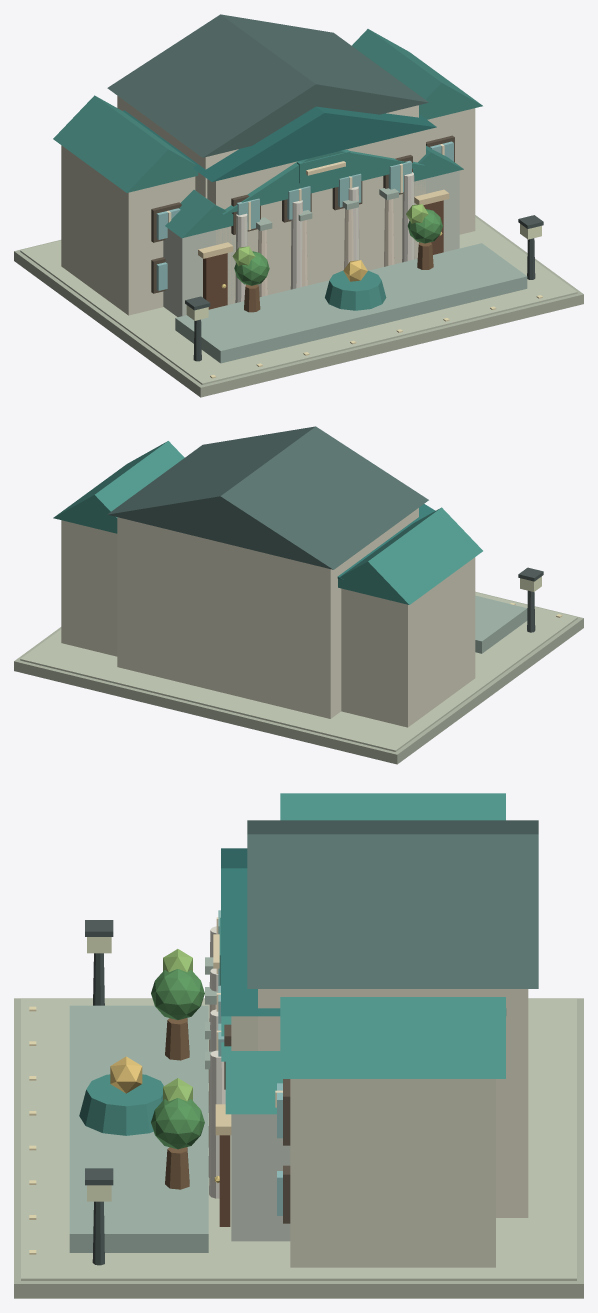
The model's file is bank-lv4.obj.
3 views of the same model, one above another, from view 1: azimuth 30°, elevation 25°; view 2: azimuth 150°, elevation 25°; view 3: azimuth 270°, elevation 25° (orthographic). The views are drawn at different scales.
Parts seen in each view (by area): view 1: bank_3, bank_5, bank_4, bank_28, bank_1, bank_0, bank_19, bank_20, bank_27, bank_13, bank_22, bank_21 (+10 smaller); view 2: bank_26, bank_5, bank_3, bank_1, bank_4, bank_0, bank_28, bank_30; view 3: bank_5, bank_1, bank_3, bank_4, bank_28, bank_0, bank_26, bank_20, bank_19, bank_17, bank_30, bank_27 (+6 smaller).
Part boxes in pixels (x1,y1,x2,y2): bank_3: [61, 108, 475, 315]; bank_5: [107, 14, 428, 157]; bank_4: [53, 29, 482, 310]; bank_28: [175, 243, 527, 363]; bank_1: [20, 217, 577, 384]; bank_0: [14, 215, 583, 397]; bank_19: [123, 106, 436, 181]; bank_20: [163, 170, 459, 316]; bank_27: [235, 172, 414, 302]; bank_13: [257, 199, 394, 296]; bank_22: [236, 160, 411, 229]; bank_21: [203, 200, 443, 309]; bank_26: [117, 508, 418, 718]; bank_5: [107, 426, 428, 569]; bank_3: [61, 520, 475, 727]; bank_1: [20, 592, 577, 751]; bank_4: [53, 441, 482, 604]; bank_0: [14, 591, 583, 764]; bank_28: [475, 595, 527, 653]; bank_30: [518, 567, 543, 632]; bank_5: [247, 820, 538, 988]; bank_1: [21, 999, 576, 1280]; bank_3: [231, 1016, 495, 1267]; bank_4: [79, 793, 505, 1135]; bank_28: [69, 1005, 208, 1252]; bank_0: [14, 998, 583, 1298]; bank_26: [258, 989, 528, 1217]; bank_20: [231, 1114, 290, 1241]; bank_19: [221, 848, 506, 1016]; bank_17: [151, 969, 204, 1149]; bank_30: [85, 920, 113, 1265]; bank_27: [209, 926, 225, 1198].
Size of the model in its own units: 5.75 by 3.02 by 4.85.
